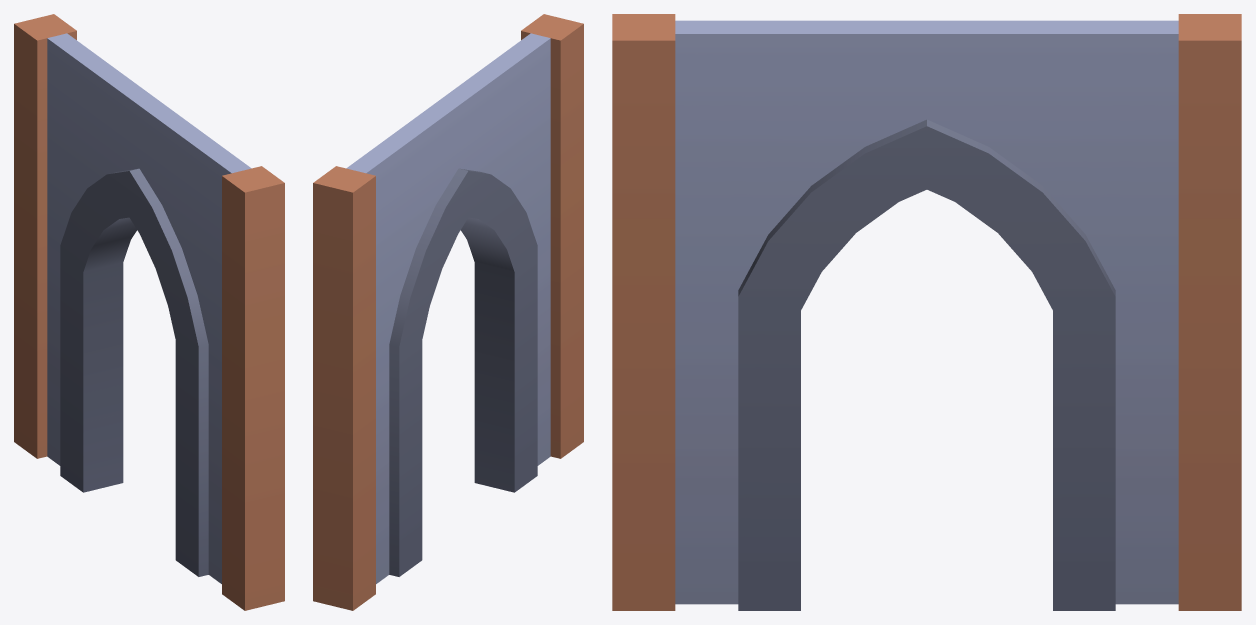
The model's file is kenney-fantasy-town-wall-doorway-round.glb.
3 views of the same model, side by side, from view 1: azimuth 30°, elevation 25°; view 2: azimuth 150°, elevation 25°; view 3: azimuth 270°, elevation 25° (orthographic). The views are drawn at different scales.
Visible parts, largest first — view 1: wall-doorway-round; view 2: wall-doorway-round; view 3: wall-doorway-round.
Part boxes in pixels (<box>): wall-doorway-round: <box>14,14,284,610</box>; wall-doorway-round: <box>313,14,583,610</box>; wall-doorway-round: <box>612,14,1241,610</box>.
Size of the model in its own units: 0.1 by 1 by 1.
Materials: 1 (1 with a texture image).
